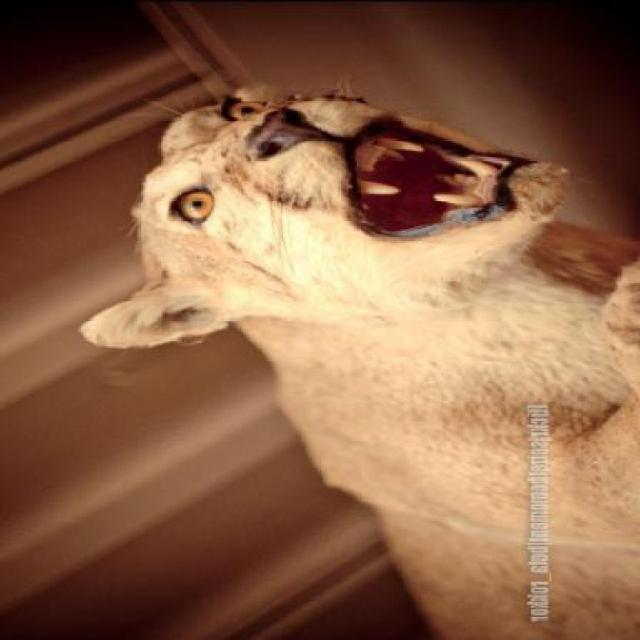Lion: (63, 74, 639, 638)
